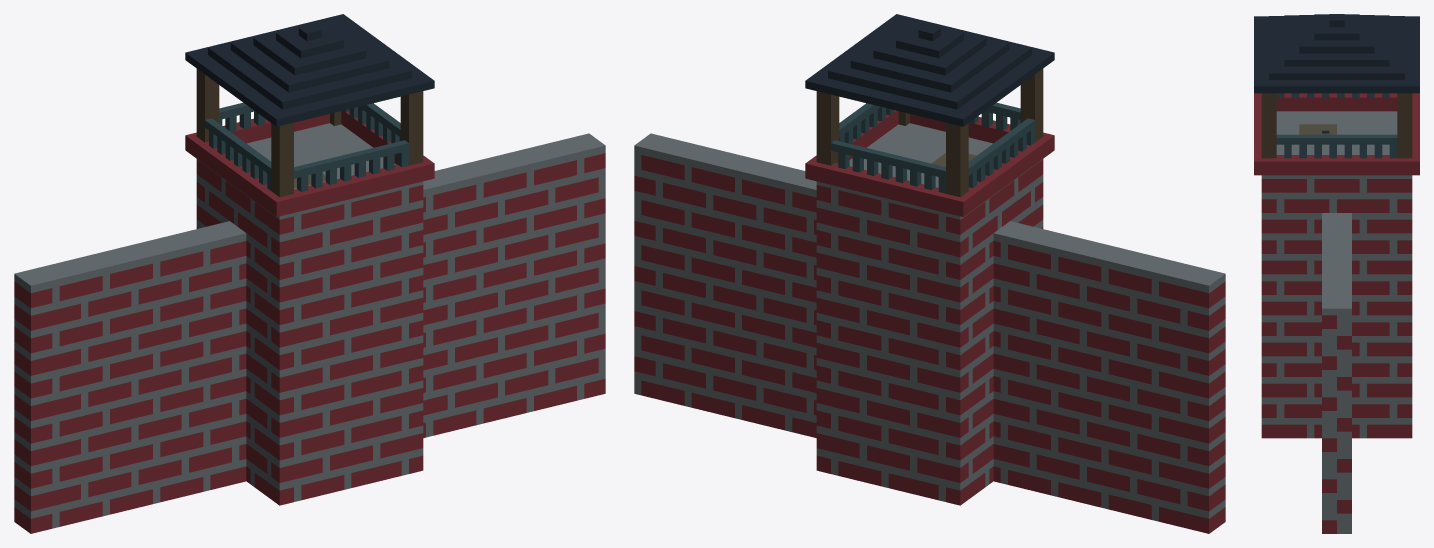
The model's file is wall2_straight.obj.
3 renders of one model, left to right at view 1: azimuth 30°, elevation 25°; view 2: azimuth 150°, elevation 25°; view 3: azimuth 270°, elevation 25°, orthographic. The views are drawn at different scales.
Bounding box in the file's own units: 8 × 5.7 × 2.2.
1 material, 1 textured.
